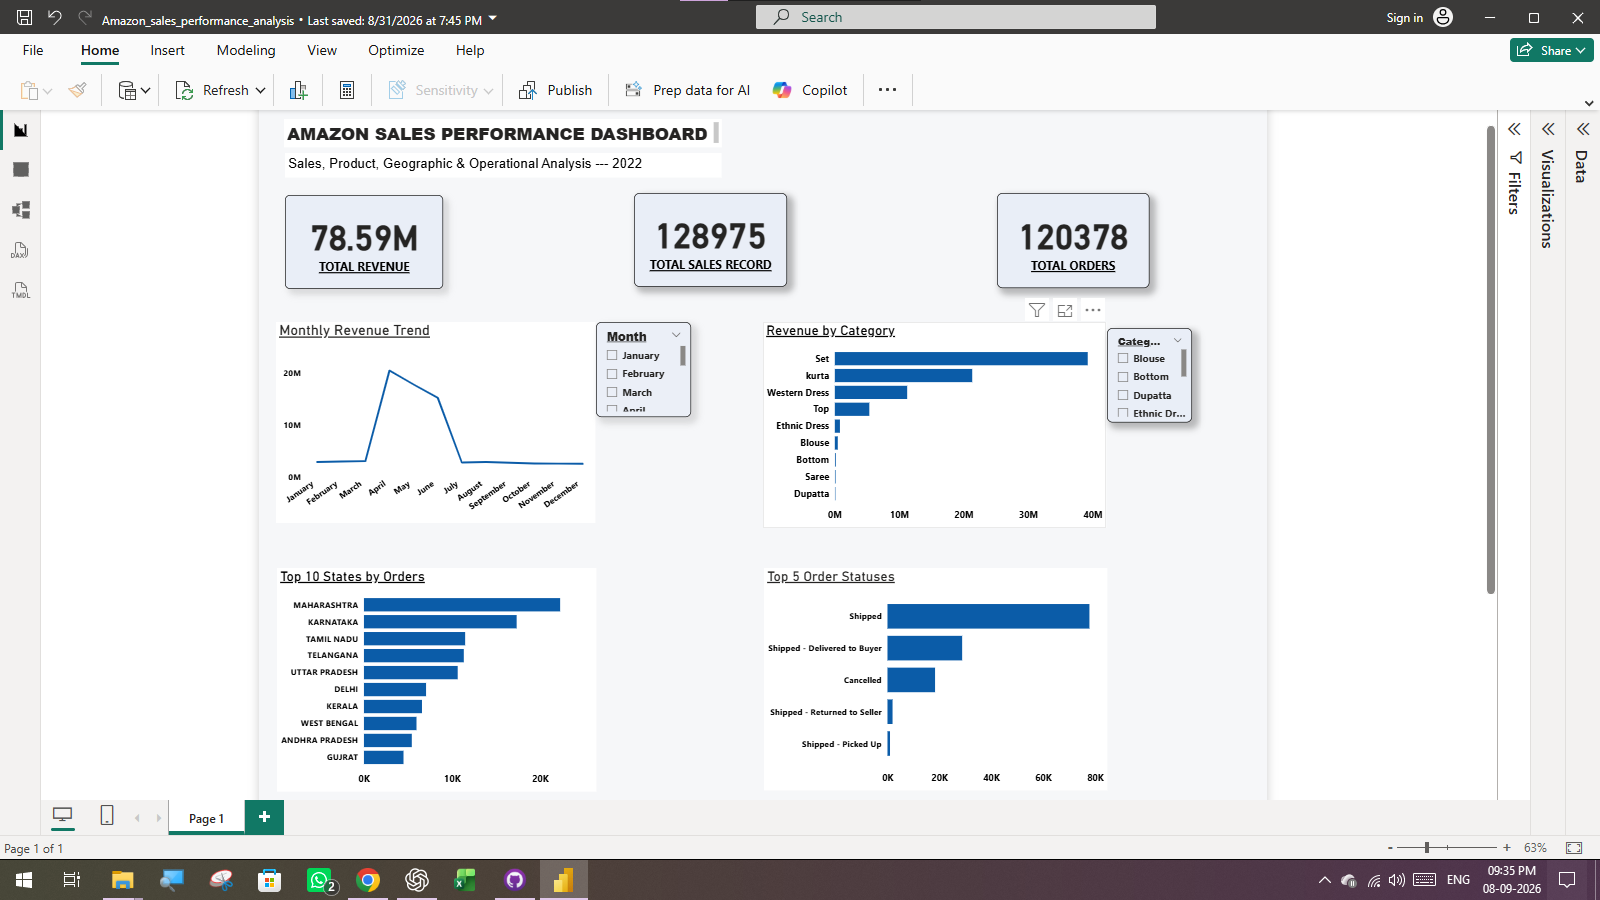

What the dashboard file says about the page in this screenshot:
{"tool":"powerbi","page":{"name":"Page 1","canvas":[1600,1600],"ordinal":0},"visuals":[{"type":"card","fields":{"Values":["Sum(CLEAN DATA.Amount)"]},"box":[40.5,158.1,251.4,148.6],"z":1},{"type":"card","fields":{"Values":["CountNonNull(CLEAN DATA.order id count)"]},"box":[595.9,155.4,243.2,148.6],"z":2},{"type":"card","fields":{"Values":["Count(CLEAN DATA.Order ID)"]},"box":[1171.6,155.4,241.9,151.4],"z":3},{"type":"lineChart","title":"Monthly Revenue Trend","fields":{"Category":["CLEAN DATA.date clean.Variation.Date Hierarchy.Month"],"Y":["Sum(CLEAN DATA.Amount)"]},"box":[27,360.8,506.8,318.9],"z":4},{"type":"clusteredBarChart","title":"Revenue by Category","fields":{"Category":["CLEAN DATA.Category"],"Y":["Sum(CLEAN DATA.Amount)"]},"box":[800,360.8,544.6,327],"z":5},{"type":"clusteredBarChart","title":"Top 10 States by Orders","fields":{"Category":["CLEAN DATA.State Clean"],"Y":["CountNonNull(CLEAN DATA.Order ID)"]},"box":[28.4,751.4,506.8,355.4],"z":6},{"type":"clusteredBarChart","title":"Top 5 Order Statuses","fields":{"Category":["CLEAN DATA.Status"],"Y":["CountNonNull(CLEAN DATA.Order ID)"]},"box":[801.4,751.4,544.6,352.7],"z":7},{"type":"slicer","fields":{"Values":["CLEAN DATA.Category"]},"box":[1345.9,370.3,135.1,150],"z":8},{"type":"slicer","fields":{"Values":["CLEAN DATA.date clean.Variation.Date Hierarchy.Month"]},"box":[535.1,360.8,151.4,151.4],"z":9},{"type":"textbox","box":[39.2,37.8,694.6,44.6],"z":10},{"type":"textbox","box":[40.5,91.9,693.2,39.2],"z":11}]}

Visuals, with their boxes on the page's 1600x1600 design canvas (x1, y1, x2, y2). These are canvas units, not pixel positions in the 1600x900 screenshot, which may show the page scaled, cropped or inside an application window:
card - Sum(CLEAN DATA.Amount): 40, 158, 292, 307
card - CountNonNull(CLEAN DATA.order id count): 596, 155, 839, 304
card - Count(CLEAN DATA.Order ID): 1172, 155, 1414, 307
"Monthly Revenue Trend" lineChart: 27, 361, 534, 680
"Revenue by Category" clusteredBarChart: 800, 361, 1345, 688
"Top 10 States by Orders" clusteredBarChart: 28, 751, 535, 1107
"Top 5 Order Statuses" clusteredBarChart: 801, 751, 1346, 1104
slicer - CLEAN DATA.Category: 1346, 370, 1481, 520
slicer - CLEAN DATA.date clean.Variation.Date Hierarchy.Month: 535, 361, 686, 512
textbox: 39, 38, 734, 82
textbox: 40, 92, 734, 131
